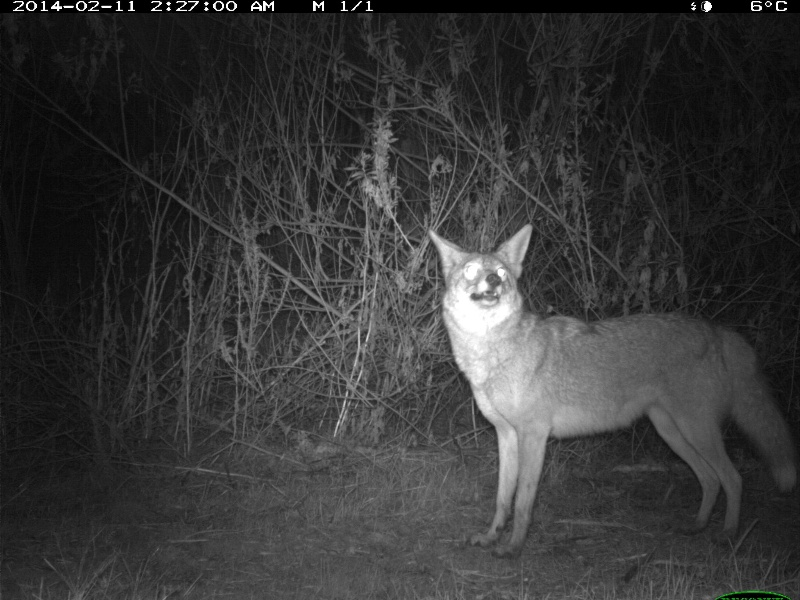coyote: (425, 223, 800, 560)
